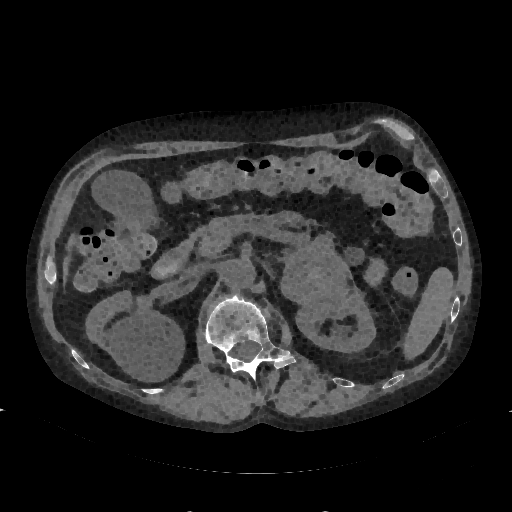Lesion: (277, 242, 363, 316)
